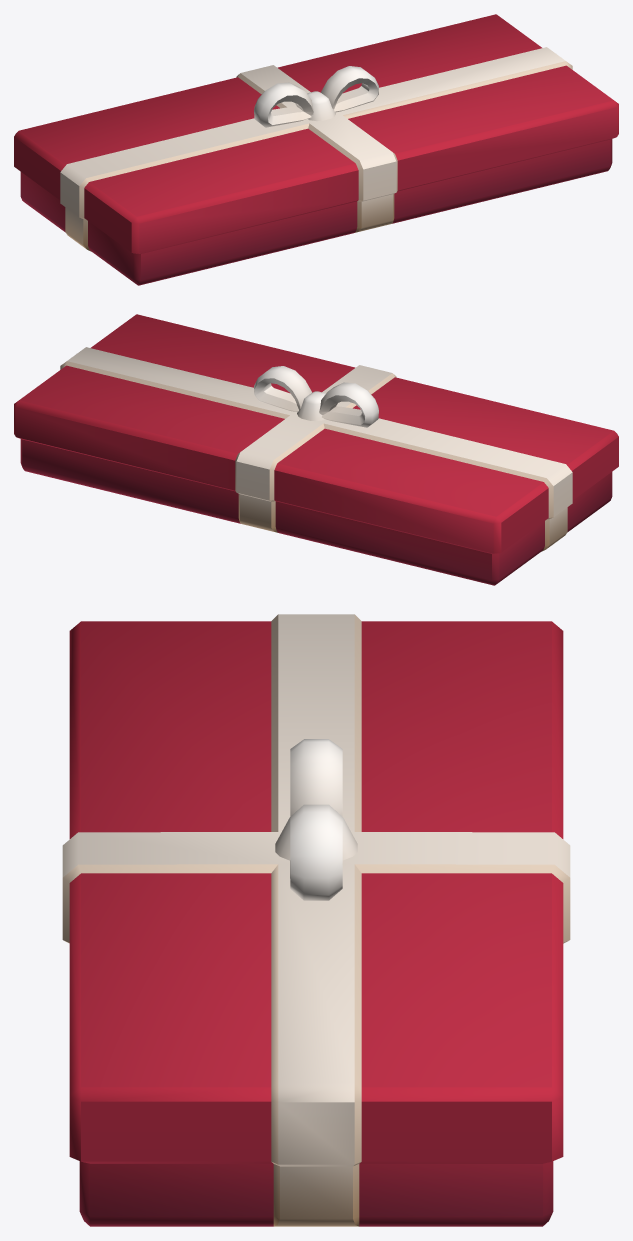
Rendered from present_F_red.glb.
3 renders of one model, top to bottom at view 1: azimuth 30°, elevation 25°; view 2: azimuth 150°, elevation 25°; view 3: azimuth 270°, elevation 25°, orthographic. The views are drawn at different scales.
Visible parts, largest first — view 1: present_F_red; view 2: present_F_red; view 3: present_F_red.
Part boxes in pixels (x1,y1,x2,y2): present_F_red: (14,14,618,285); present_F_red: (14,314,618,585); present_F_red: (62,614,570,1226).
Size of the model in its own units: 2.16 by 0.4617 by 0.9638.
Materials: 1 (1 with a texture image).
